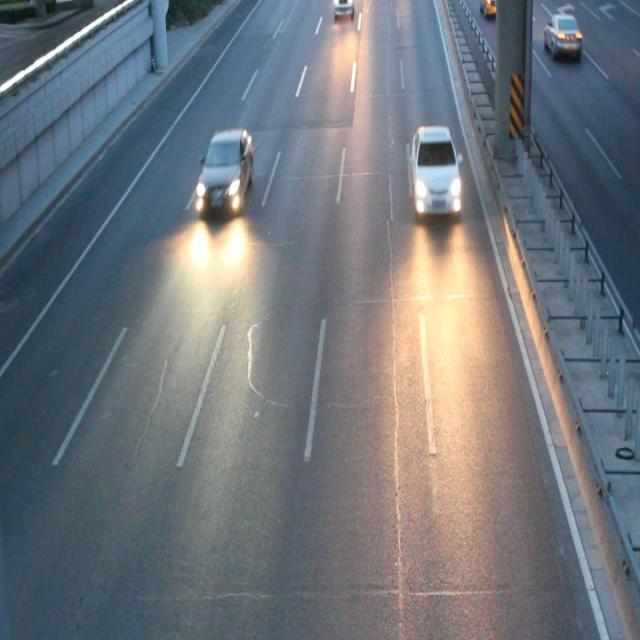car: (195, 128, 252, 210), (410, 126, 460, 213), (543, 13, 580, 53), (477, 1, 501, 17)
truck: (334, 1, 354, 17)
